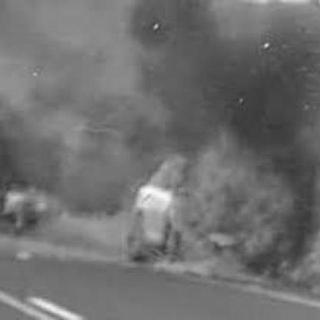Smoke: (4, 0, 313, 134)
